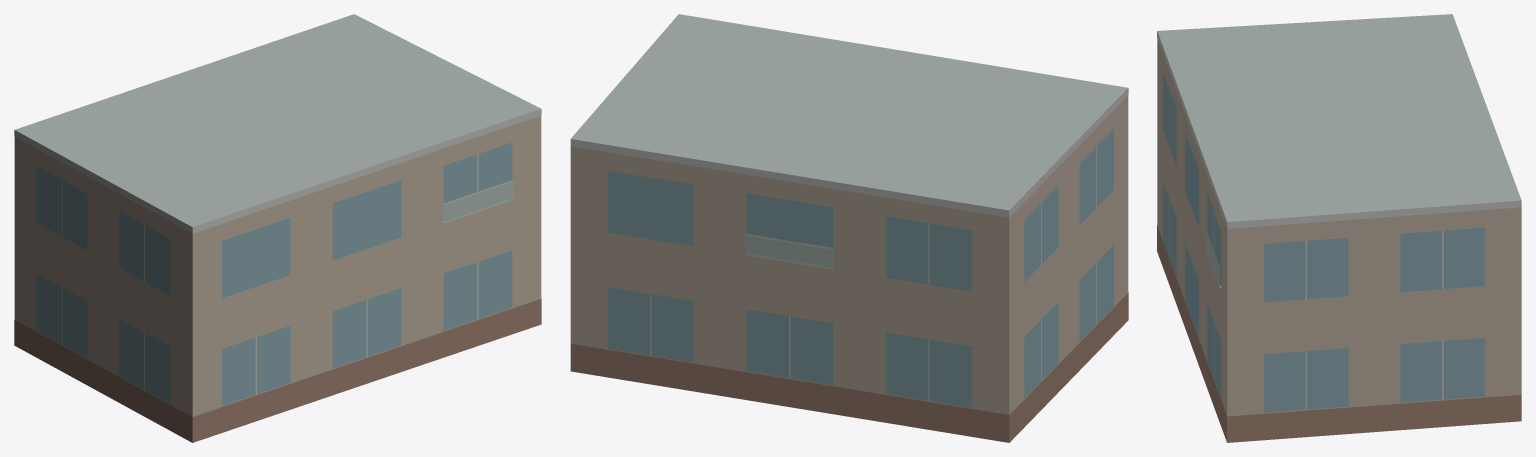
The model's file is survey-upis-32979703.glb.
3 views of the same model, side by side, from view 1: azimuth 30°, elevation 25°; view 2: azimuth 150°, elevation 25°; view 3: azimuth 270°, elevation 25° (orthographic). The views are drawn at different scales.
Parts seen in each view (by area): view 1: survey-upis-32979703.tmp; view 2: survey-upis-32979703.tmp; view 3: survey-upis-32979703.tmp.
Boxes of the visible parts, x1=… form: survey-upis-32979703.tmp: x1=14, y1=14, x2=541, y2=442; survey-upis-32979703.tmp: x1=570, y1=14, x2=1128, y2=442; survey-upis-32979703.tmp: x1=1157, y1=14, x2=1521, y2=442.
Bounding box in the file's own units: 15.99 × 7.9 × 11.83.
